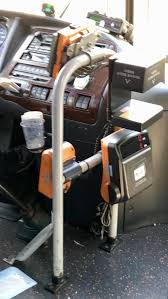terminal: (100, 129, 156, 204)
